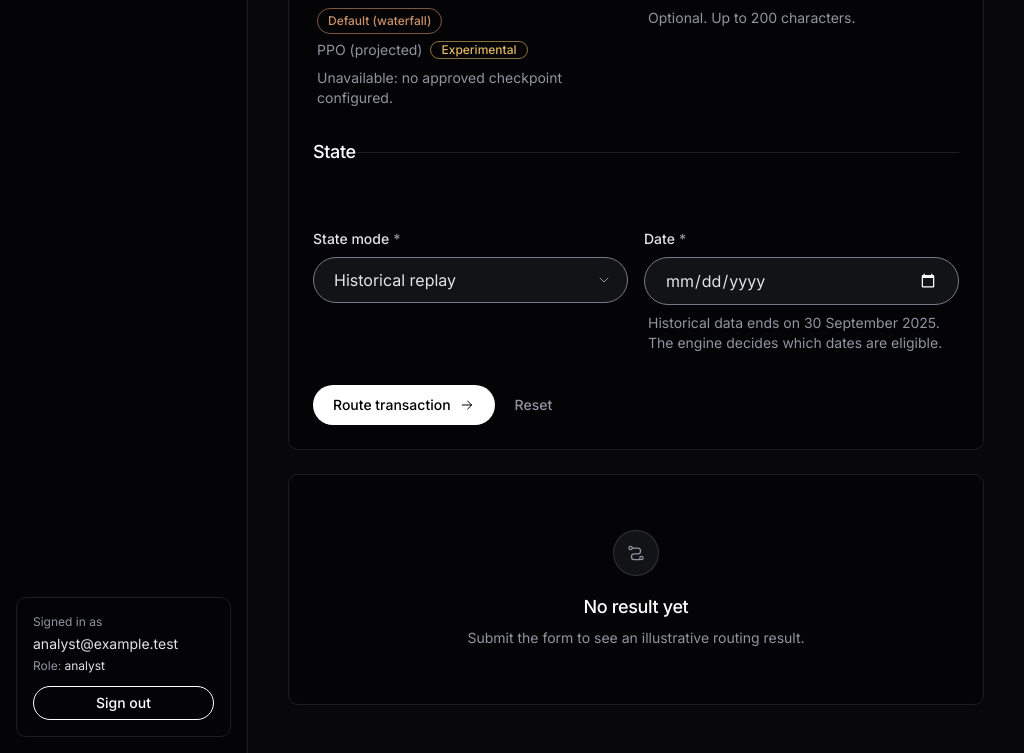
validation › shows field errors, sends nothing, and moves focus to the first error
(page scrolled)
Click the button "Route transaction": (404, 405) [313,385,495,425]
(page scrolled)
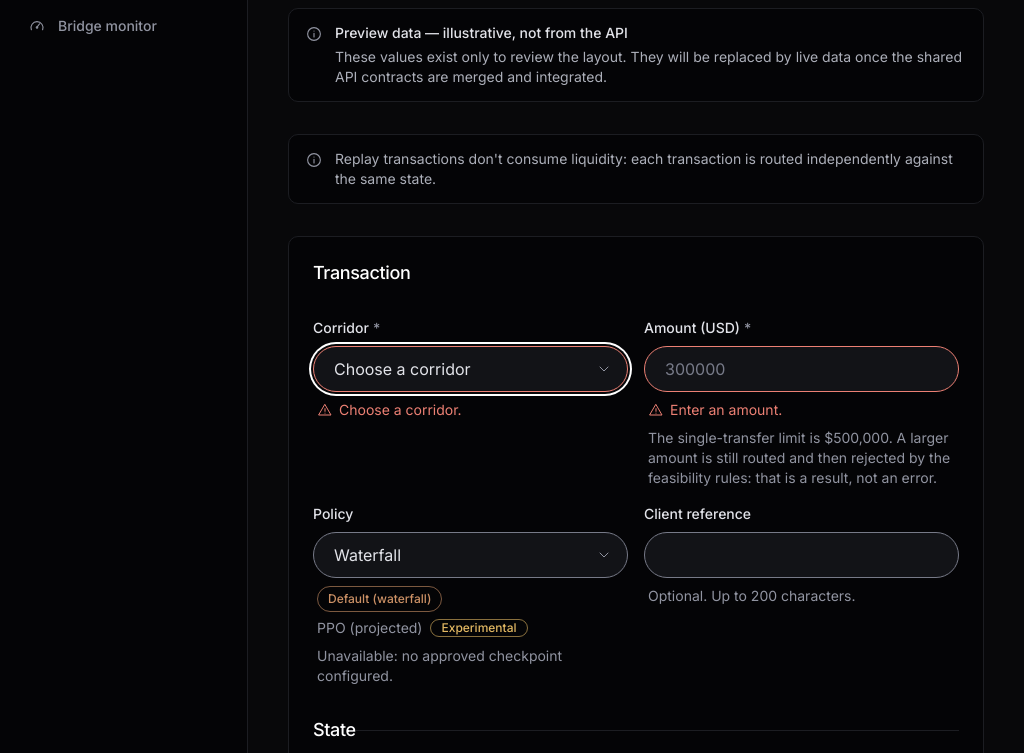
Result: the text "Choose a corridor." is shown at [339,400,462,420]
Result: the text "Enter an amount." is shown at [670,400,782,420]
